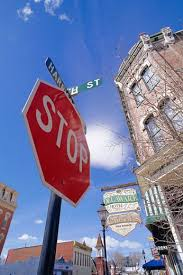Stop: (31, 74, 108, 201)
